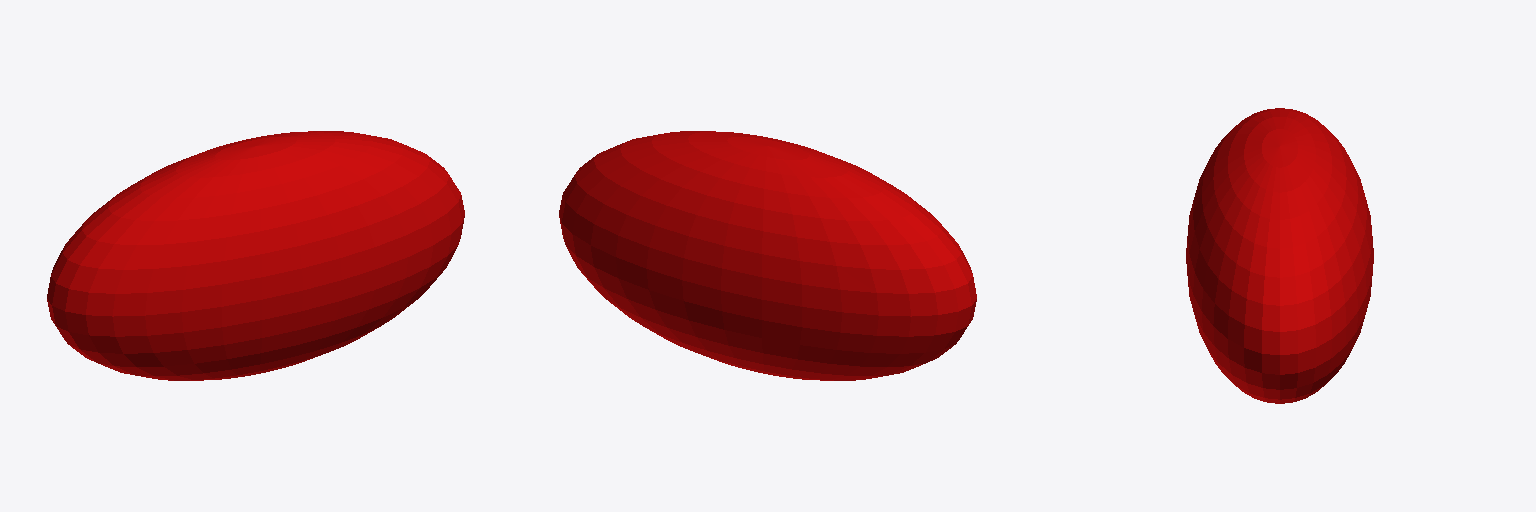
The model's file is moya_aircon_r.obj.
The picture shows the model from 3 angles: view 1: azimuth 30°, elevation 25°; view 2: azimuth 150°, elevation 25°; view 3: azimuth 270°, elevation 25°; orthographic projection.
Parts seen in each view (by area): view 1: Sphere_Sphere.000_Sphere_Sphere.003; view 2: Sphere_Sphere.000_Sphere_Sphere.003; view 3: Sphere_Sphere.000_Sphere_Sphere.003.
Part boxes in pixels (x1,y1,x2,y2): Sphere_Sphere.000_Sphere_Sphere.003: (47,131,464,380); Sphere_Sphere.000_Sphere_Sphere.003: (559,131,976,380); Sphere_Sphere.000_Sphere_Sphere.003: (1186,108,1373,403).
Size of the model in its own units: 0.9189 by 0.4726 by 0.3675.